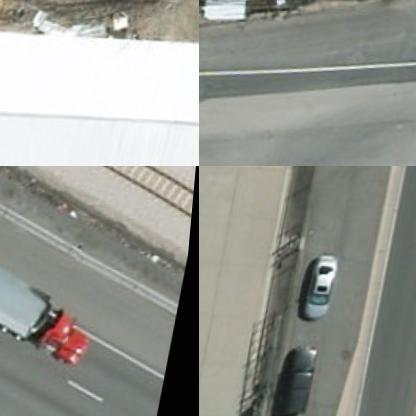car: (287, 343, 323, 415), (308, 254, 342, 318)
truck: (0, 166, 141, 388)
